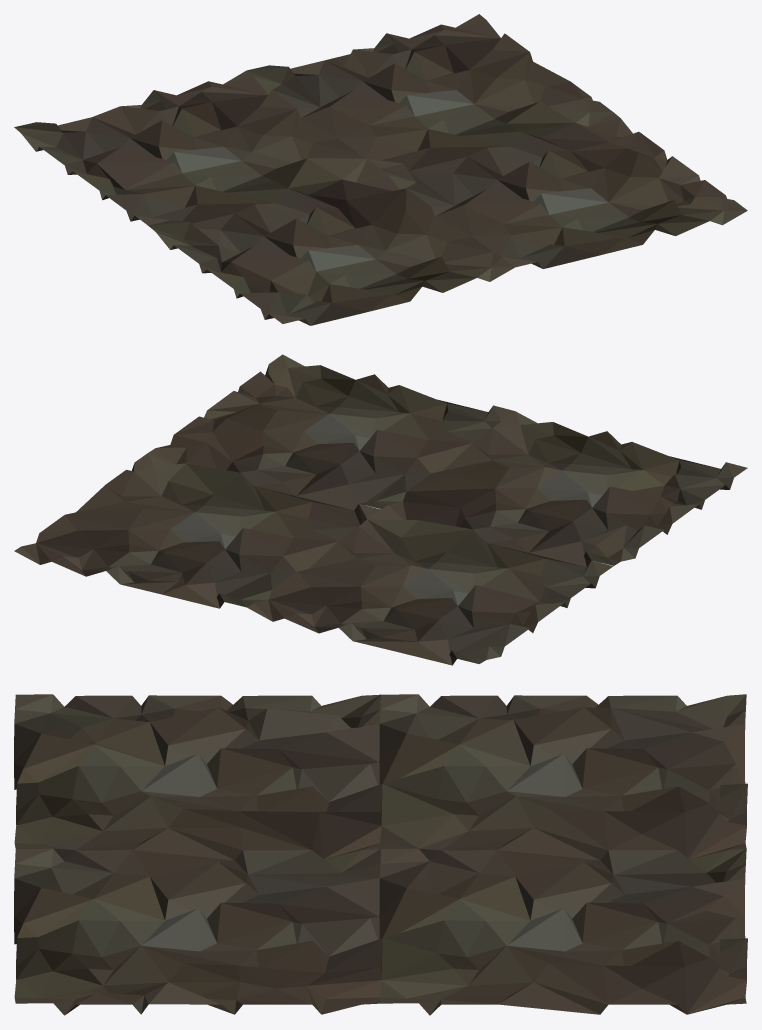
Rendered from ceiling_8m.fbx.
3 renders of one model, top to bottom at view 1: azimuth 30°, elevation 25°; view 2: azimuth 150°, elevation 25°; view 3: azimuth 270°, elevation 25°, orthographic. The views are drawn at different scales.
Visible parts, largest first — view 1: ceiling_8m; view 2: ceiling_8m; view 3: ceiling_8m.
Part boxes in pixels (x1=…): ceiling_8m: x1=14, y1=14, x2=747, y2=325; ceiling_8m: x1=14, y1=354, x2=747, y2=665; ceiling_8m: x1=14, y1=694, x2=747, y2=1015.
Bounding box in the file's own units: 8 × 0.2276 × 8.03.
